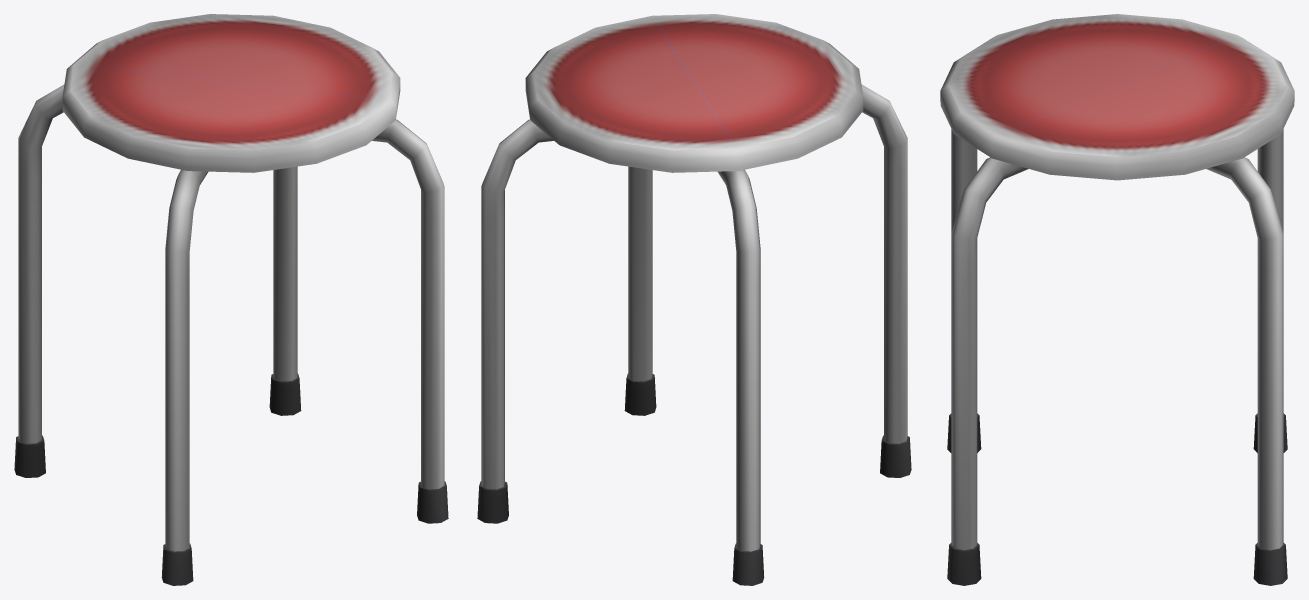
Rendered from jsf_Chair_03.fbx.
The picture shows the model from 3 angles, left to right: view 1: azimuth 30°, elevation 25°; view 2: azimuth 150°, elevation 25°; view 3: azimuth 270°, elevation 25°; orthographic projection. The views are drawn at different scales.
Parts seen in each view (by area): view 1: jsf_Chair_03; view 2: jsf_Chair_03; view 3: jsf_Chair_03.
Part boxes in pixels (left/top/right/bottom): jsf_Chair_03: left=14, top=14, right=448, bottom=585; jsf_Chair_03: left=477, top=14, right=911, bottom=585; jsf_Chair_03: left=940, top=14, right=1294, bottom=585.
Bounding box in the file's own units: 33 × 44 × 33.
